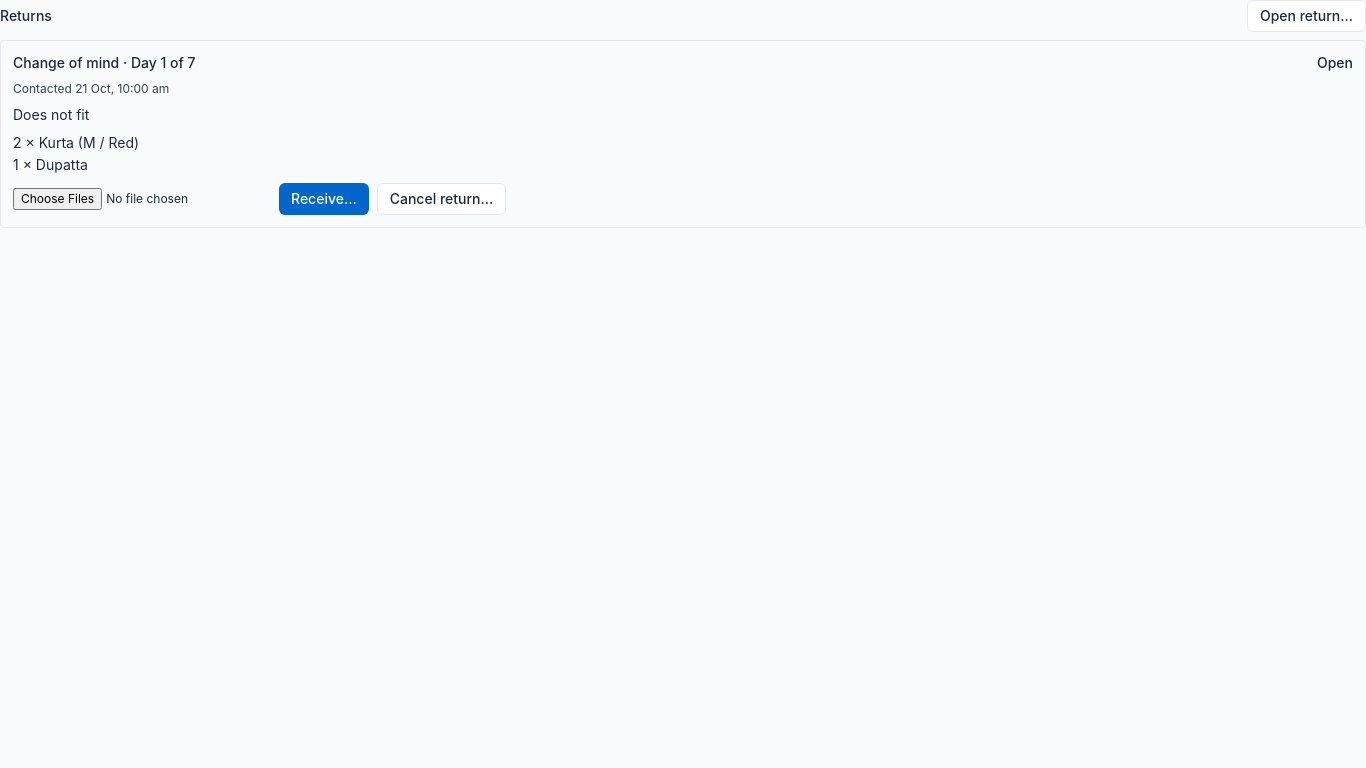
Scenario: Receive dialog › shows amounts from return_preview, requesting every item with restock units
This screenshot has width=1366, height=768.
Click the button "Receive…".
click(324, 199)  # box [279,183,369,215]
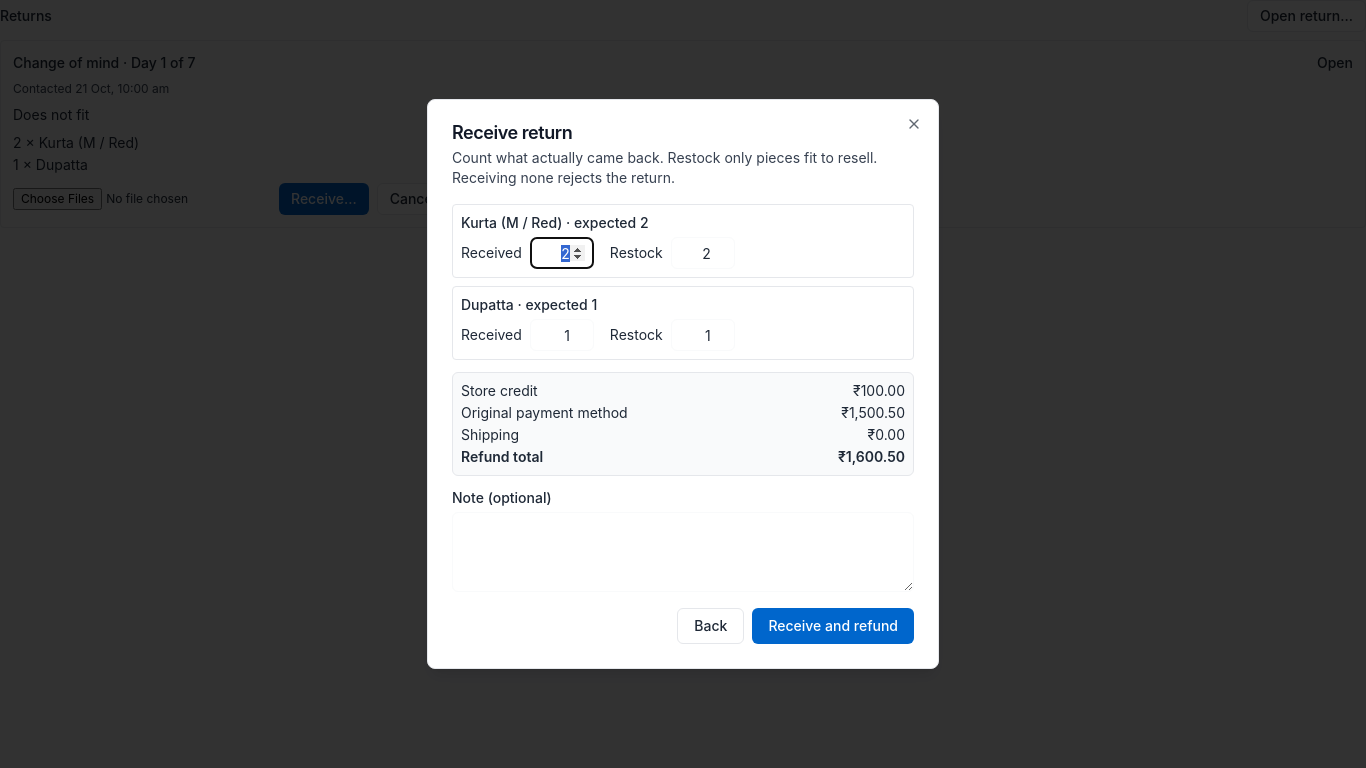
Check: the dialog shows "₹1,600.50", box [838,448,905,465]
Check: the dialog shows "₹100.00", box [853,382,905,399]
Check: the dialog shows "₹1,500.50", box [841,404,905,421]
